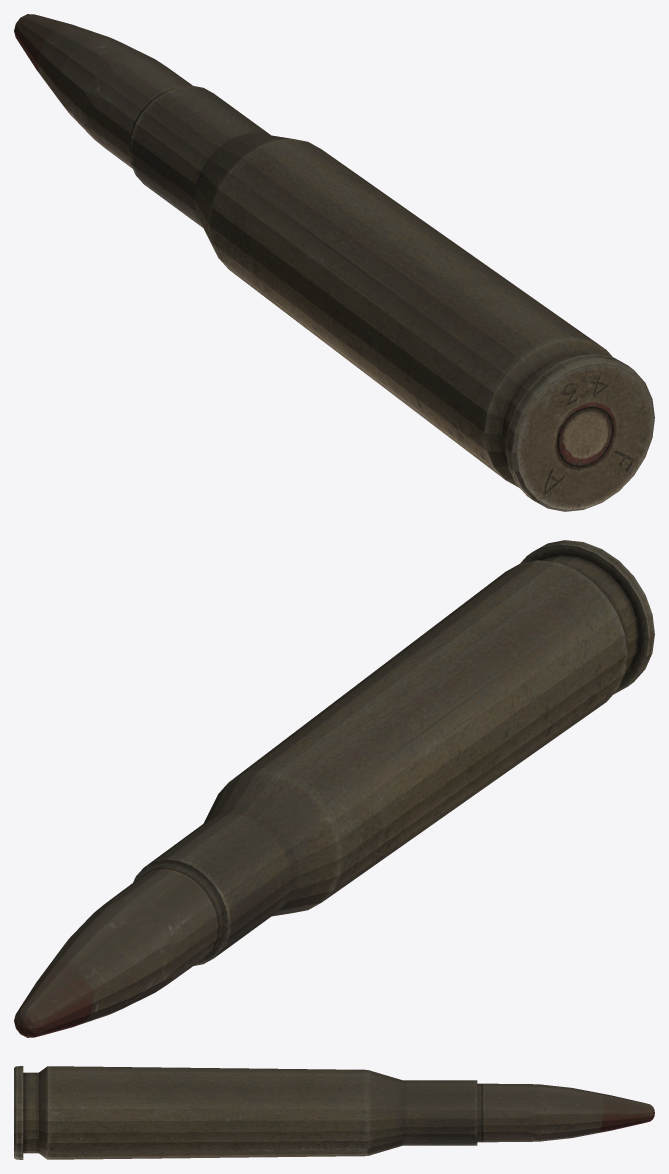
The picture shows the model from 3 angles, top to bottom: view 1: azimuth 30°, elevation 25°; view 2: azimuth 150°, elevation 25°; view 3: azimuth 270°, elevation 25°; orthographic projection. The views are drawn at different scales.
Visible parts, largest first — view 1: TW_67dc212493ce32834b0fa446_PZ_Import; view 2: TW_67dc212493ce32834b0fa446_PZ_Import; view 3: TW_67dc212493ce32834b0fa446_PZ_Import.
Boxes of the visible parts, left/top/right/bottom form: TW_67dc212493ce32834b0fa446_PZ_Import: left=14, top=14, right=654, bottom=511; TW_67dc212493ce32834b0fa446_PZ_Import: left=14, top=540, right=654, bottom=1037; TW_67dc212493ce32834b0fa446_PZ_Import: left=14, top=1066, right=654, bottom=1159.
Bounding box in the file's own units: 0.0117 × 0.08 × 0.0117.
1 material, 1 textured.
